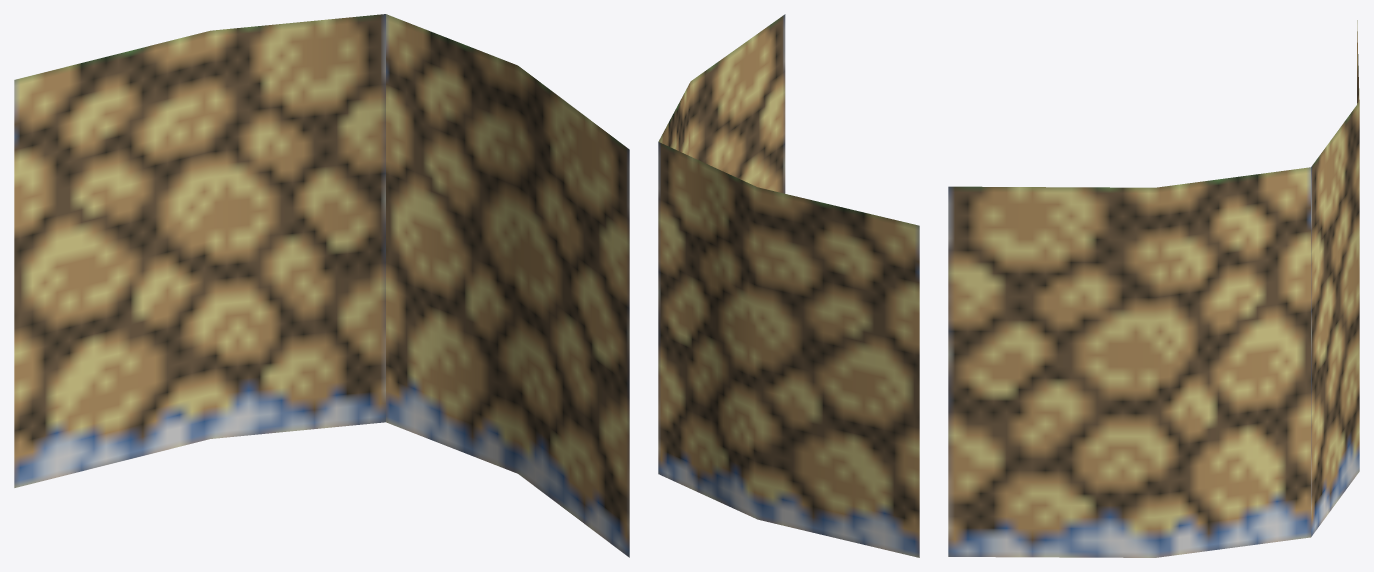
File: snowDTile_wallLower_innerCorner.fbx
3 views of the same model, side by side, from view 1: azimuth 30°, elevation 25°; view 2: azimuth 150°, elevation 25°; view 3: azimuth 270°, elevation 25° (orthographic). The views are drawn at different scales.
Parts seen in each view (by area): view 1: snowDTile_wallLower_innerCorner; view 2: snowDTile_wallLower_innerCorner; view 3: snowDTile_wallLower_innerCorner.
Part boxes in pixels (bbox=[...]): snowDTile_wallLower_innerCorner: bbox=[14, 14, 629, 557]; snowDTile_wallLower_innerCorner: bbox=[658, 14, 919, 557]; snowDTile_wallLower_innerCorner: bbox=[948, 20, 1359, 557].
Bounding box in the file's own units: 1.01 × 1 × 1.01.
